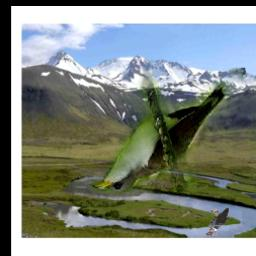Crow: (204, 208, 229, 236)
Cuckoo: (92, 69, 246, 193)
